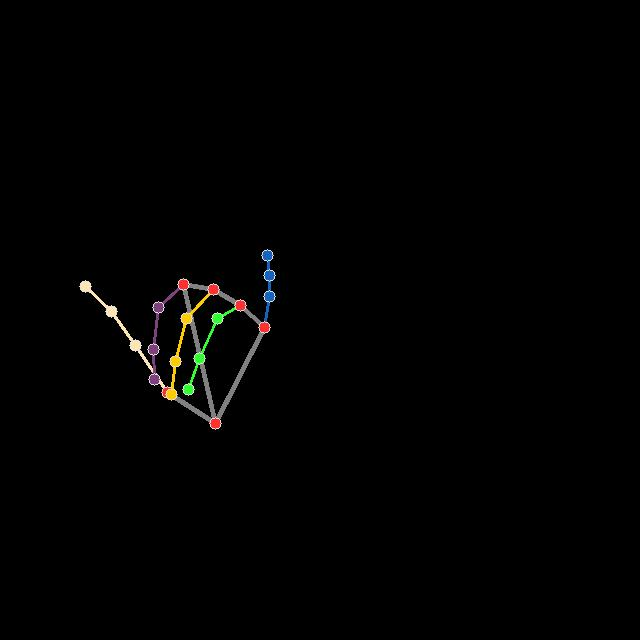skr: (78, 247, 278, 430)
